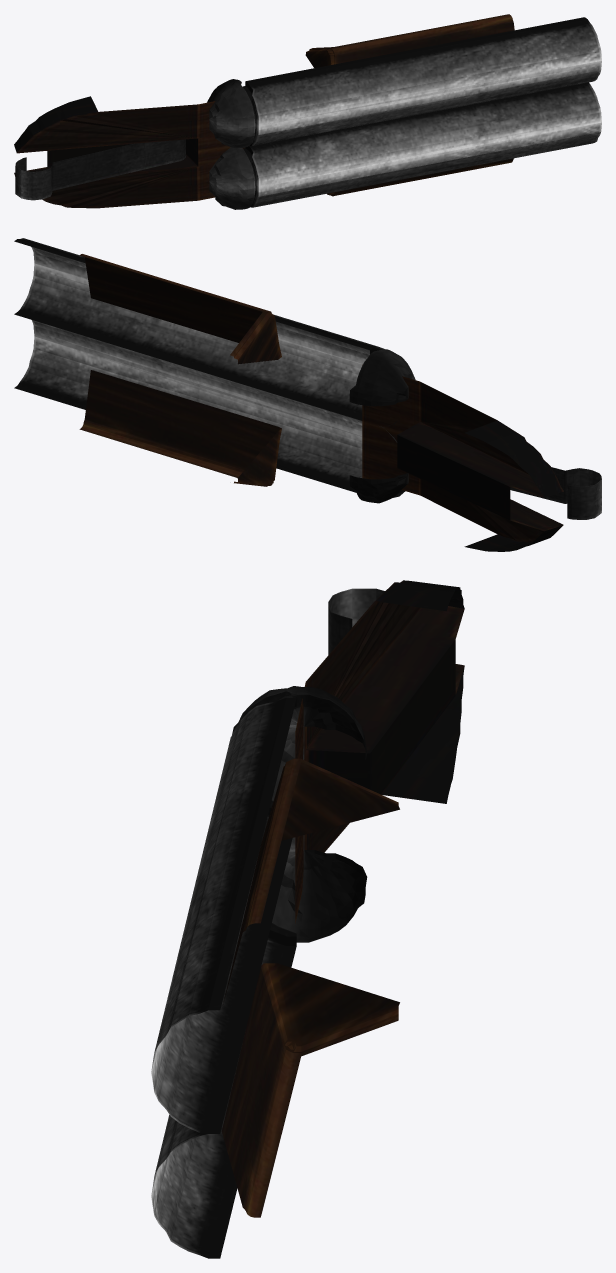
The model's file is v_shot2_2.obj.
3 renders of one model, top to bottom at view 1: azimuth 30°, elevation 25°; view 2: azimuth 150°, elevation 25°; view 3: azimuth 270°, elevation 25°, orthographic. The views are drawn at different scales.
Bounding box in the file's own units: 10.61 × 2.81 × 2.71.
Materials: 1 (1 with a texture image).
